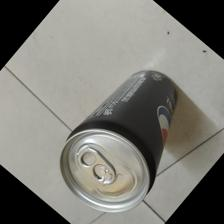Pepsi: (60, 68, 179, 217)
